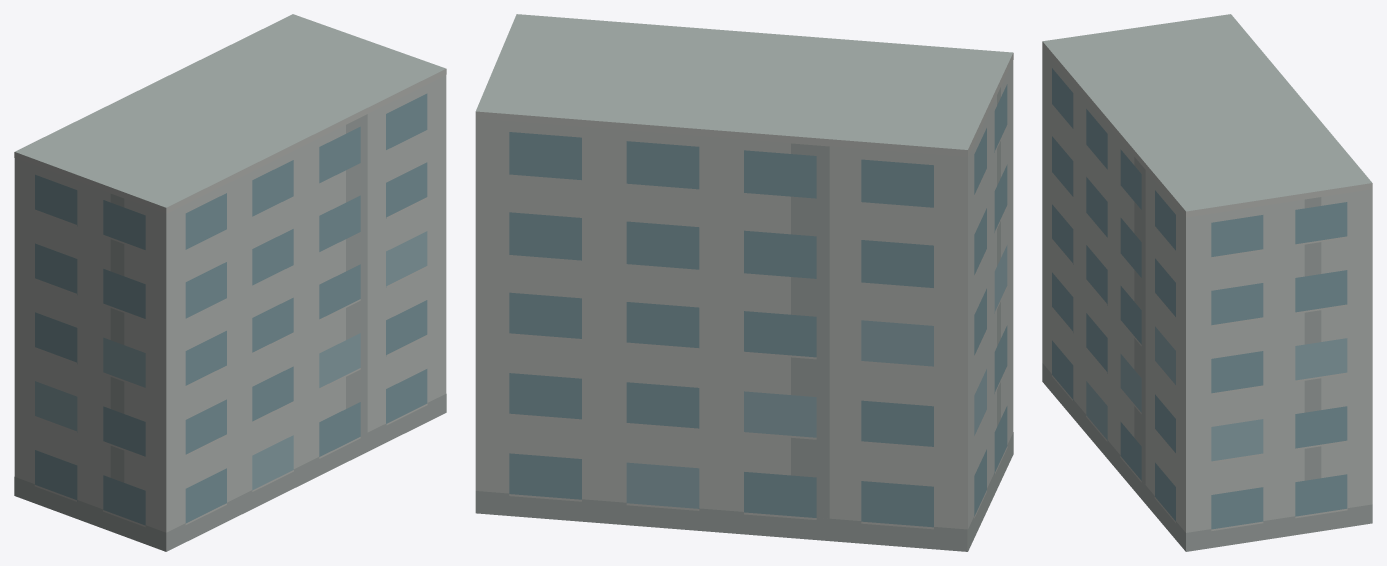
File: survey-upis-32704735.glb
3 views of the same model, side by side, from view 1: azimuth 30°, elevation 25°; view 2: azimuth 150°, elevation 25°; view 3: azimuth 270°, elevation 25° (orthographic). The views are drawn at different scales.
Parts seen in each view (by area): view 1: survey-upis-32704735.tmp; view 2: survey-upis-32704735.tmp; view 3: survey-upis-32704735.tmp.
Boxes of the visible parts, x1,y1,x2,y2 form: survey-upis-32704735.tmp: [14, 14, 446, 551]; survey-upis-32704735.tmp: [475, 14, 1013, 551]; survey-upis-32704735.tmp: [1042, 14, 1372, 551].
Bounding box in the file's own units: 16.75 × 13.45 × 11.83.
